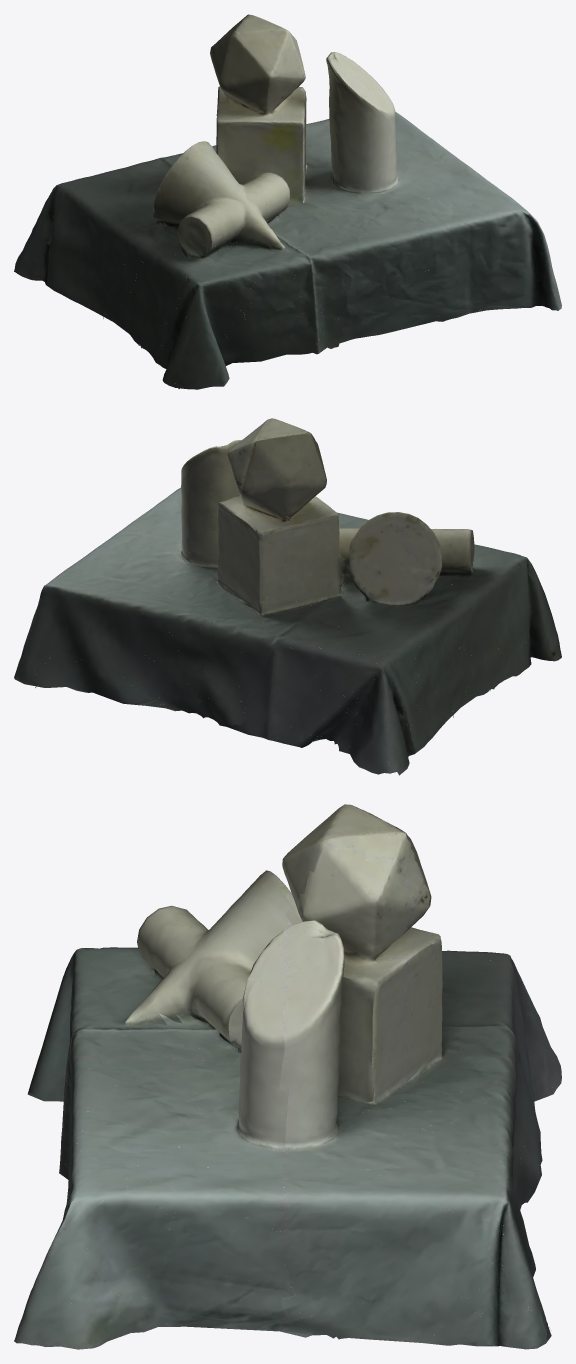
The model's file is 静物_几何体_多种形体组合09_opt.glb.
3 views of the same model, one above another, from view 1: azimuth 30°, elevation 25°; view 2: azimuth 150°, elevation 25°; view 3: azimuth 270°, elevation 25° (orthographic). The views are drawn at different scales.
Parts seen in each view (by area): view 1: defaultMat, defaultMat_1; view 2: defaultMat, defaultMat_1; view 3: defaultMat, defaultMat_1.
Boxes of the visible parts, box(x1,y1,x2,y2) form: defaultMat: box(14, 14, 561, 389); defaultMat_1: box(22, 16, 561, 388); defaultMat: box(14, 418, 561, 775); defaultMat_1: box(14, 422, 554, 765); defaultMat: box(14, 804, 561, 1349); defaultMat_1: box(17, 812, 553, 1346).
Bounding box in the file's own units: 0.4845 × 0.3 × 0.3919.
1 material, 1 textured.
